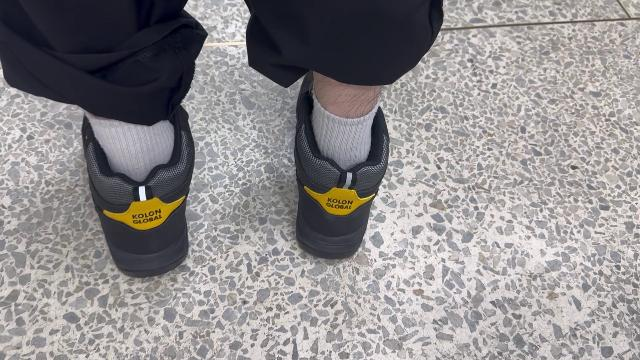shoe_worn: (79, 110, 198, 281), (297, 71, 393, 262)
